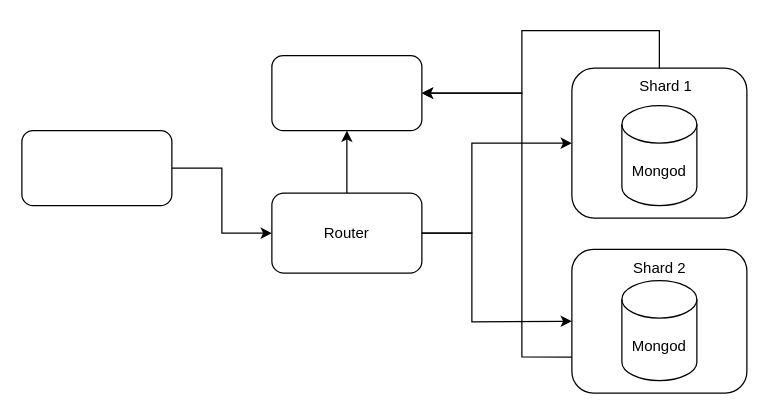
Image size: 769x415. Some labels were removed from this diagram. The shapes that lost their labels are listed below. From the top down, each one's centre as x and y in pixels, then its label:
the point at 346,92: Config
the point at 96,167: pymongo-api
